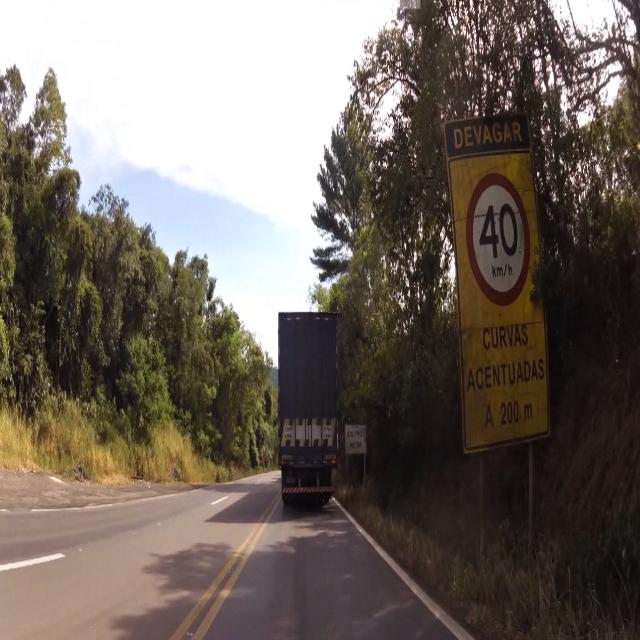R-19: (462, 166, 536, 309)
